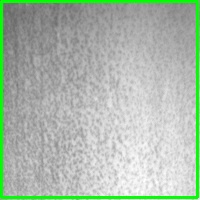pitted_surface: (1, 1, 197, 197)
